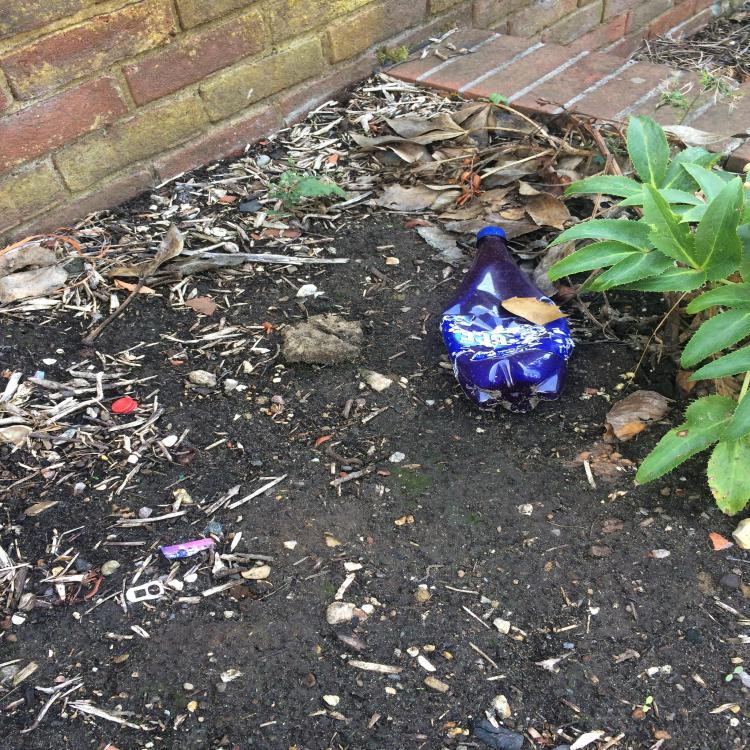Clear plastic bottle: (438, 227, 575, 414)
Metal bottle cap: (112, 397, 138, 413)
Other plastic: (160, 538, 214, 559)
Plastic bottle cap: (476, 226, 506, 238)
Pop tab: (126, 580, 164, 602)
